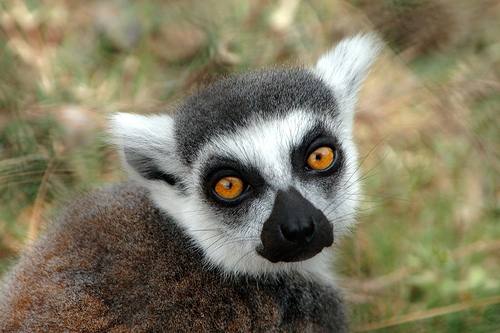cat: (0, 29, 399, 332)
